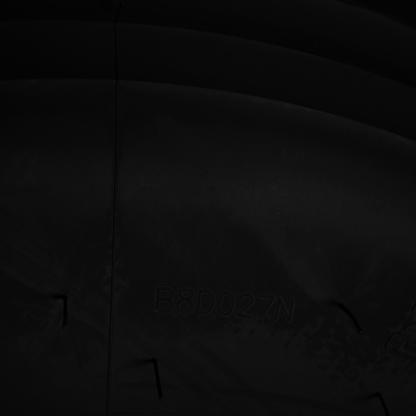ocr: (153, 283, 297, 325)
